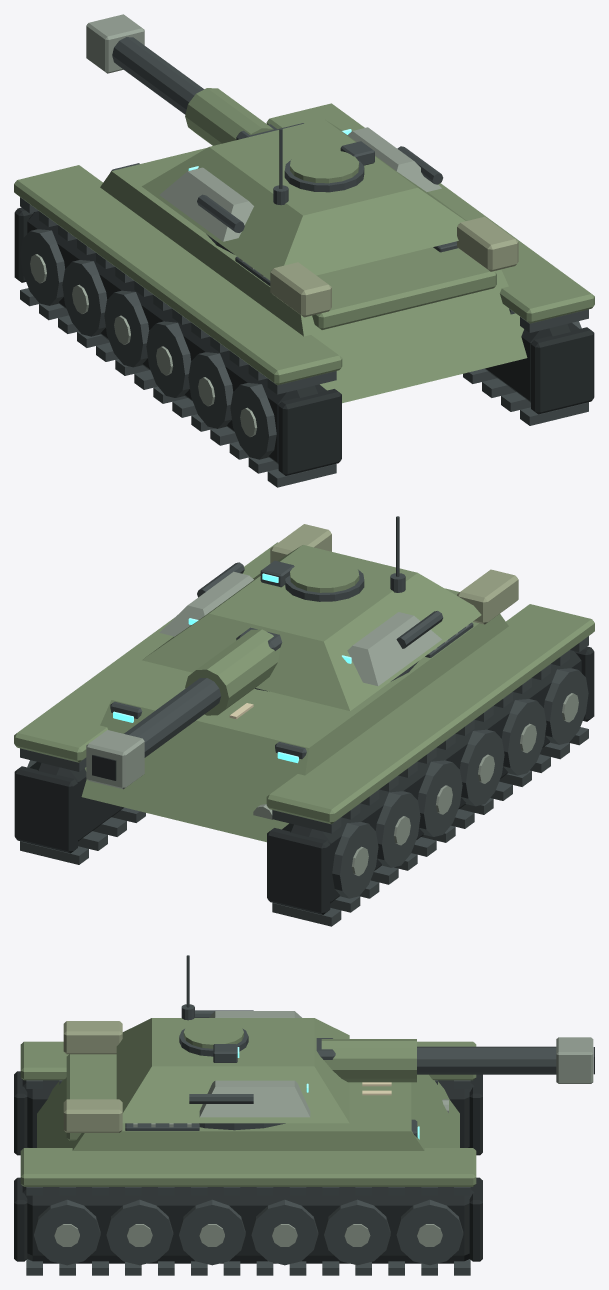
The model's file is tank_phantom_mk2.glb.
3 views of the same model, one above another, from view 1: azimuth 30°, elevation 25°; view 2: azimuth 150°, elevation 25°; view 3: azimuth 270°, elevation 25° (orthographic). The views are drawn at different scales.
Parts seen in each view (by area): view 1: tank_phantom_mk2_TankPaint.005, tank_phantom_mk2_TankPaint.006, tank_phantom_mk2_RunningGear.005, tank_phantom_mk2_TankTracks.005, tank_phantom_mk2_ArmorEdges.006, tank_phantom_mk2_RunningGear.006, tank_phantom_mk2_Canvas.004, tank_phantom_mk2_ArmorEdges.005; view 2: tank_phantom_mk2_TankPaint.005, tank_phantom_mk2_TankPaint.006, tank_phantom_mk2_RunningGear.005, tank_phantom_mk2_TankTracks.005, tank_phantom_mk2_ArmorEdges.006, tank_phantom_mk2_RunningGear.006, tank_phantom_mk2_Canvas.004, tank_phantom_mk2_ArmorEdges.005; view 3: tank_phantom_mk2_TankPaint.005, tank_phantom_mk2_RunningGear.005, tank_phantom_mk2_TankPaint.006, tank_phantom_mk2_TankTracks.005, tank_phantom_mk2_RunningGear.006, tank_phantom_mk2_ArmorEdges.006, tank_phantom_mk2_Canvas.004, tank_phantom_mk2_ArmorEdges.005.
Part boxes in pixels (left/top/right/bottom): tank_phantom_mk2_TankPaint.005: left=14, top=103, right=594, bottom=403; tank_phantom_mk2_TankPaint.006: left=142, top=88, right=466, bottom=280; tank_phantom_mk2_RunningGear.005: left=20, top=123, right=588, bottom=487; tank_phantom_mk2_TankTracks.005: left=14, top=207, right=594, bottom=475; tank_phantom_mk2_ArmorEdges.006: left=86, top=14, right=441, bottom=241; tank_phantom_mk2_RunningGear.006: left=112, top=37, right=443, bottom=254; tank_phantom_mk2_Canvas.004: left=270, top=216, right=518, bottom=317; tank_phantom_mk2_ArmorEdges.005: left=30, top=254, right=264, bottom=436; tank_phantom_mk2_TankPaint.005: left=14, top=542, right=594, bottom=842; tank_phantom_mk2_TankPaint.006: left=142, top=545, right=481, bottom=715; tank_phantom_mk2_RunningGear.005: left=20, top=622, right=588, bottom=926; tank_phantom_mk2_TankTracks.005: left=14, top=646, right=594, bottom=914; tank_phantom_mk2_ArmorEdges.006: left=86, top=571, right=441, bottom=789; tank_phantom_mk2_RunningGear.006: left=124, top=516, right=443, bottom=757; tank_phantom_mk2_Canvas.004: left=270, top=524, right=518, bottom=624; tank_phantom_mk2_ArmorEdges.005: left=253, top=625, right=578, bottom=875; tank_phantom_mk2_TankPaint.005: left=20, top=1041, right=476, bottom=1186; tank_phantom_mk2_RunningGear.005: left=26, top=1080, right=470, bottom=1275; tank_phantom_mk2_TankPaint.006: left=116, top=1018, right=416, bottom=1123; tank_phantom_mk2_TankTracks.005: left=14, top=1071, right=482, bottom=1263; tank_phantom_mk2_RunningGear.006: left=179, top=955, right=556, bottom=1130; tank_phantom_mk2_ArmorEdges.006: left=199, top=1011, right=593, bottom=1117; tank_phantom_mk2_Canvas.004: left=63, top=1021, right=122, bottom=1132; tank_phantom_mk2_ArmorEdges.005: left=54, top=1099, right=448, bottom=1246.
Bounding box in the file's own units: 2.51 × 1.97 × 4.52.
